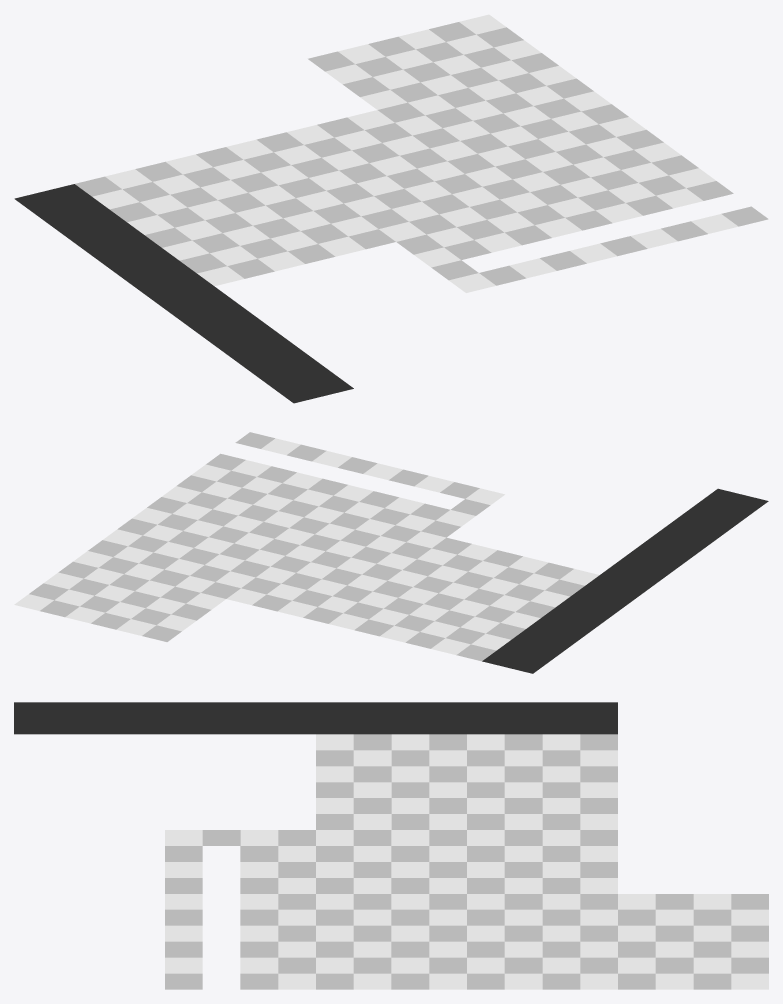
The model's file is dimian01.FBX.
The picture shows the model from 3 angles, top to bottom: view 1: azimuth 30°, elevation 25°; view 2: azimuth 150°, elevation 25°; view 3: azimuth 270°, elevation 25°; orthographic projection. The views are drawn at different scales.
Parts seen in each view (by area): view 1: dimian01; view 2: dimian01; view 3: dimian01.
Boxes of the visible parts, box(x1,y1,x2,y2) form: dimian01: box(14, 14, 768, 403); dimian01: box(14, 432, 768, 673); dimian01: box(14, 702, 768, 989).
Bounding box in the file's own units: 1800 × 1.22e-13 × 2000.
